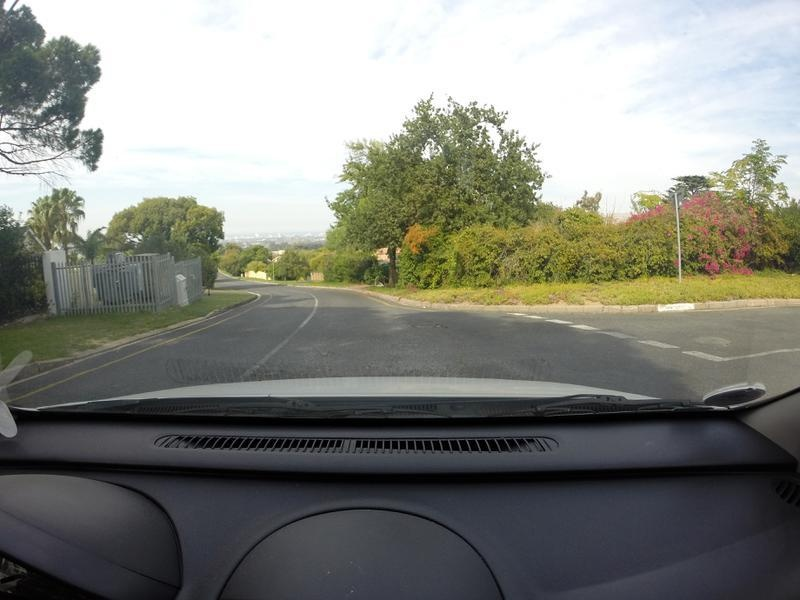pothole: (411, 321, 442, 329)
